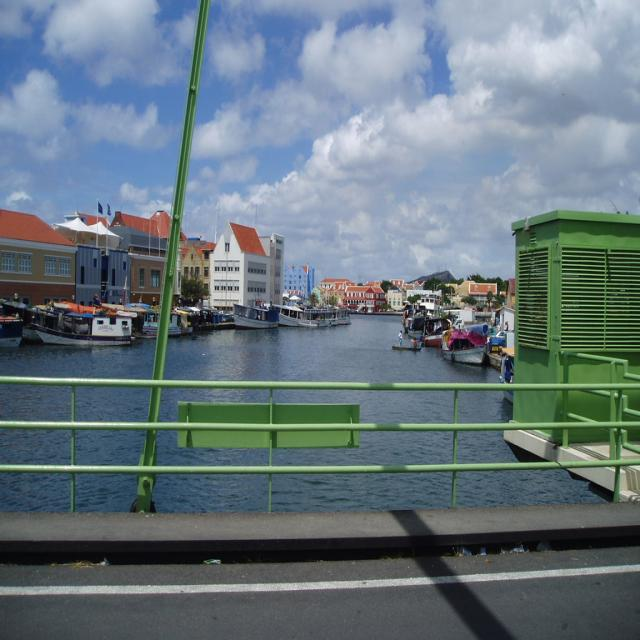Boat: (0, 293, 236, 348), (402, 272, 462, 349), (280, 284, 353, 327), (438, 323, 492, 369), (230, 303, 280, 330), (496, 346, 516, 404), (392, 345, 423, 354)
